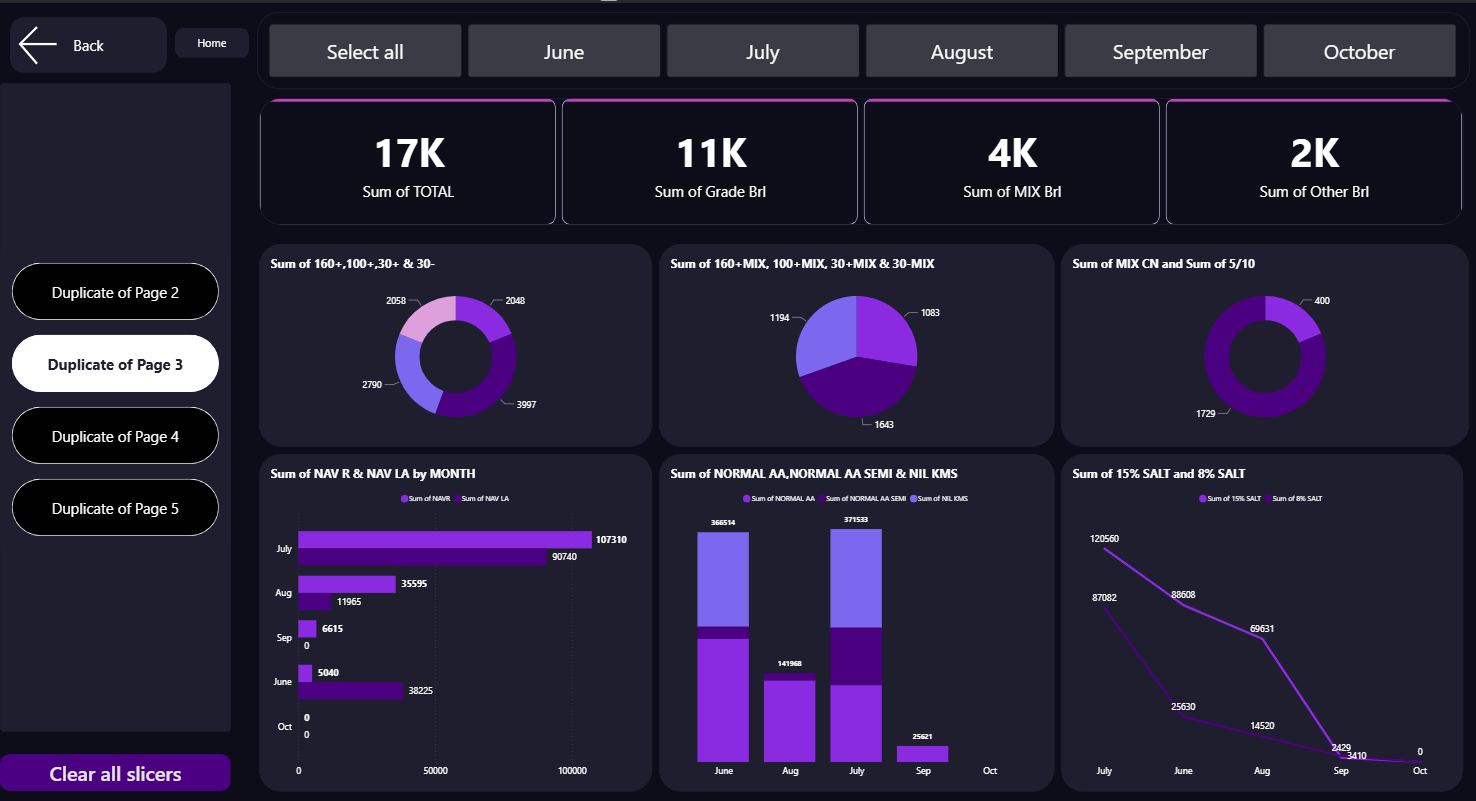

This screenshot's page, from the dashboard's own definition file:
{"tool":"powerbi","page":{"name":"Duplicate of Page 3","canvas":[2000,1080],"ordinal":2},"visuals":[{"type":"group","id":"g1","title":"Group 1","box":[345.9,12.3,1634.8,1051.6],"z":0},{"type":"donutChart","title":"Sum of 160+,100+,30+ & 30-","fields":{"Y":["Sum(PACKING QTY.160)","Sum(PACKING QTY.100)","Sum(PACKING QTY.30)","Sum(PACKING QTY.-30)"]},"box":[349.3,324.4,530.4,272.7],"z":0,"group":"g1"},{"type":"shape","box":[0,107.7,311.1,874],"z":1000},{"type":"donutChart","fields":{"Y":["Sum(PACKING QTY.MIX CN)","Sum(PACKING QTY.5/10)"]},"box":[1429.9,324.4,550.3,272.7],"z":1000,"group":"g1"},{"type":"actionButton","box":[235.7,33.7,99.7,40.4],"z":2000},{"type":"pieChart","title":"Sum of 160+MIX, 100+MIX, 30+MIX & 30-MIX","fields":{"Y":["Sum(PACKING QTY.160+ MIX)","Sum(PACKING QTY.100+ MIX)","Sum(PACKING QTY.30+ MIX)","Sum(PACKING QTY.30- MIX)"]},"box":[888.4,324.4,532.9,272.7],"z":2000,"group":"g1"},{"type":"actionButton","box":[13.5,18.9,211.6,75.5],"z":3000},{"type":"clusteredBarChart","title":"Sum of NAV R & NAV LA by MONTH","fields":{"Category":["CONSUMPTION.MONTH"],"Y":["Sum(CONSUMPTION.NAVR)","Sum(CONSUMPTION.NAV LA)"]},"box":[349.3,608.5,530.4,455.4],"z":3000,"group":"g1"},{"type":"pageNavigator","box":[0,333.8,310.8,400],"z":4000},{"type":"lineChart","title":"Sum of 15% SALT and 8% SALT","fields":{"Category":["CONSUMPTION.MONTH"],"Y":["Sum(CONSUMPTION.15% SALT)","Sum(CONSUMPTION.8% SALT)"]},"box":[1429.9,608.5,541.6,455.4],"z":4000,"group":"g1"},{"type":"lineStackedColumnComboChart","title":"Sum of NORMAL AA,NORMAL AA SEMI & NIL KMS ","fields":{"Category":["CONSUMPTION.MONTH"],"Y":["Sum(CONSUMPTION.NORMAL AA)","Sum(CONSUMPTION.NORMAL AA SEMI)","Sum(CONSUMPTION.NIL KMS)"]},"box":[888.4,608.5,532.9,455.4],"z":5000,"group":"g1"},{"type":"actionButton","box":[0,1012.7,311.1,49.8],"z":5000},{"type":"cardVisual","fields":{"Data":["Sum(PACKING QTY.TOTAL)","Sum(PACKING QTY.Grade Brl)","Sum(PACKING QTY.MIX Brl)","Sum(PACKING QTY.Other Brl)"]},"box":[348.8,127.8,1622.6,171.2],"z":6000,"group":"g1"},{"type":"advancedSlicerVisual","fields":{"Values":["PACKING QTY.DATE.Variation.Date Hierarchy.Month"]},"box":[345.9,12.3,1634.8,103.8],"z":7000,"group":"g1"}]}

Visuals, with their boxes on the page's 2000x1080 design canvas (x1, y1, x2, y2). These are canvas units, not pixel positions in the 1476x801 screenshot, which may show the page scaled, cropped or inside an application window:
"Group 1" group: detection(346, 12, 1981, 1064)
"Sum of 160+,100+,30+ & 30-" donutChart: detection(349, 324, 880, 597)
shape: detection(0, 108, 311, 982)
donutChart - Sum(PACKING QTY.MIX CN) x Sum(PACKING QTY.5/10): detection(1430, 324, 1980, 597)
actionButton: detection(236, 34, 335, 74)
"Sum of 160+MIX, 100+MIX, 30+MIX & 30-MIX" pieChart: detection(888, 324, 1421, 597)
actionButton: detection(14, 19, 225, 94)
"Sum of NAV R & NAV LA by MONTH" clusteredBarChart: detection(349, 608, 880, 1064)
pageNavigator: detection(0, 334, 311, 734)
"Sum of 15% SALT and 8% SALT" lineChart: detection(1430, 608, 1972, 1064)
"Sum of NORMAL AA,NORMAL AA SEMI & NIL KMS " lineStackedColumnComboChart: detection(888, 608, 1421, 1064)
actionButton: detection(0, 1013, 311, 1062)
cardVisual - Sum(PACKING QTY.TOTAL) x Sum(PACKING QTY.Grade Brl): detection(349, 128, 1971, 299)
advancedSlicerVisual - PACKING QTY.DATE.Variation.Date Hierarchy.Month: detection(346, 12, 1981, 116)
